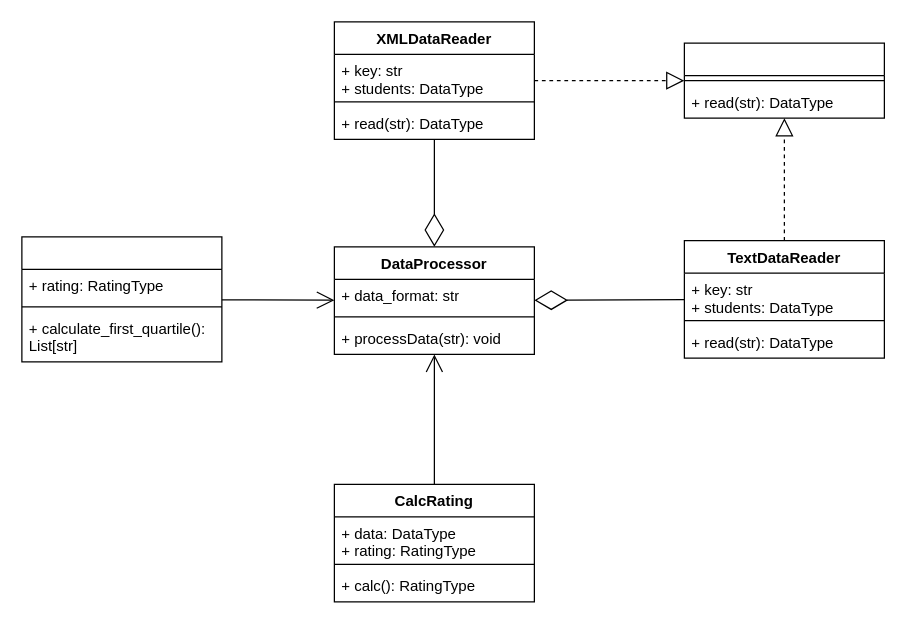
This 906x628 diagram has some shape labels left out. Here are the shapes that lost their labels. From the top down, the box of each, then its label:
(683, 42, 884, 118): DataReader
(21, 236, 222, 362): StudentCharacteristics
